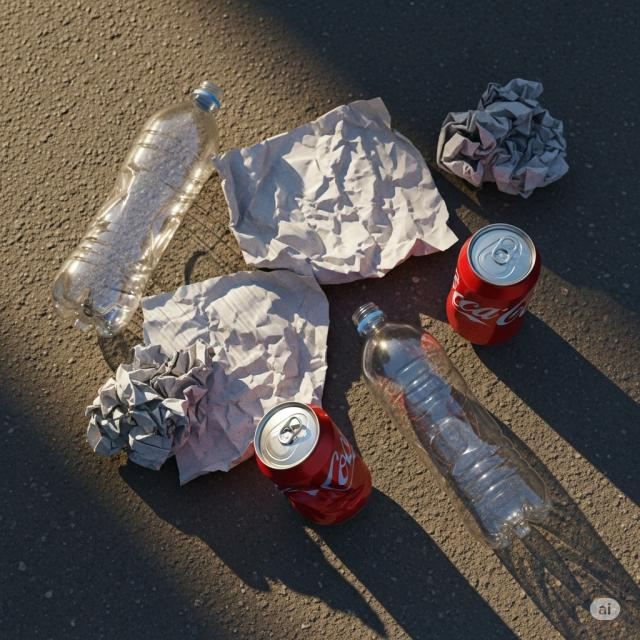aluminum: (252, 398, 375, 531), (447, 220, 541, 352)
paper: (210, 94, 460, 288), (138, 268, 330, 487), (437, 76, 573, 203), (88, 342, 212, 472)
plastic: (350, 298, 553, 552), (48, 79, 230, 338)
